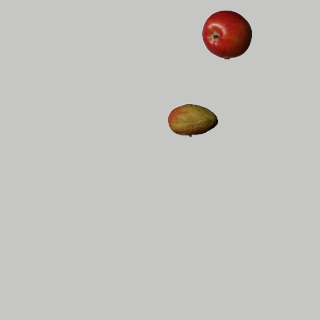Apple Braeburn: (201, 9, 251, 59)
Papaya: (167, 95, 217, 145)
